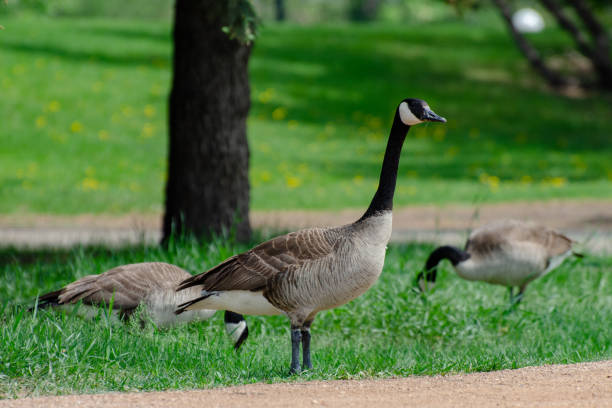goose: (169, 96, 449, 376), (33, 255, 256, 360), (413, 217, 582, 308)
